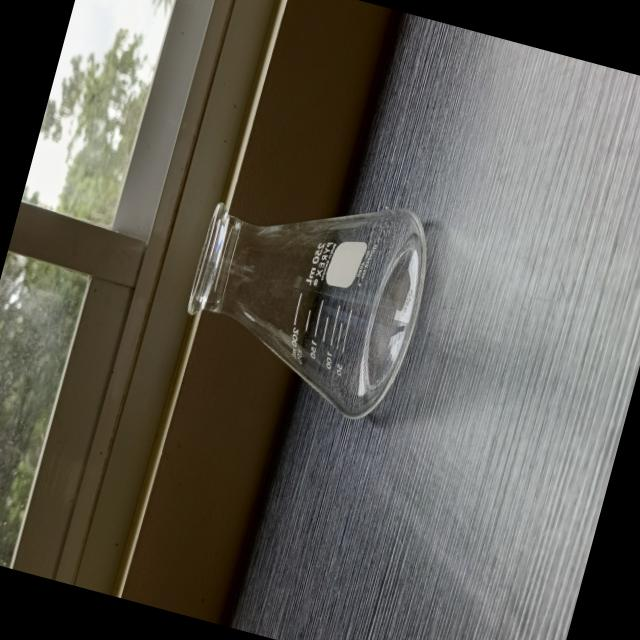erlenmeyer_flask: (160, 154, 446, 430)
